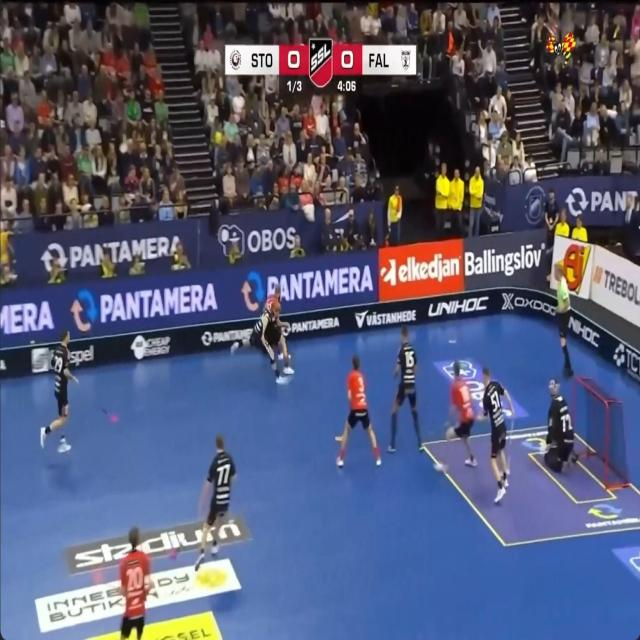player: (195, 434, 236, 570), (337, 355, 381, 465), (478, 367, 513, 502), (231, 303, 287, 383), (40, 331, 78, 447), (388, 326, 422, 452), (120, 527, 151, 639), (445, 360, 476, 466), (544, 379, 578, 472), (554, 263, 573, 377), (58, 434, 70, 452), (283, 363, 292, 373), (434, 464, 446, 471)
